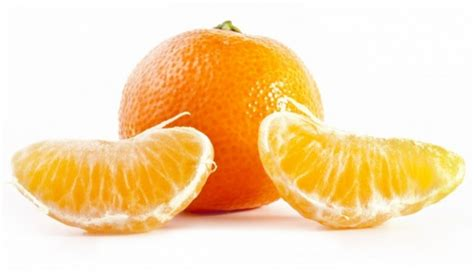orange: (118, 26, 326, 216)
